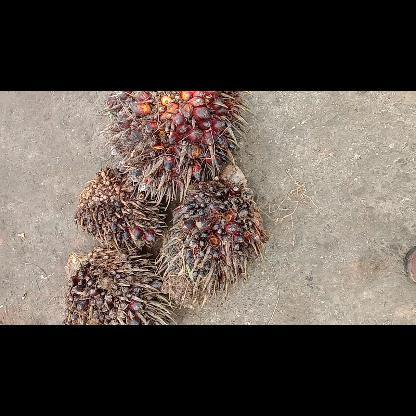TBS abnormal: (160, 163, 265, 303), (66, 252, 178, 324), (74, 168, 162, 248)
TBS masak: (105, 90, 241, 198)
